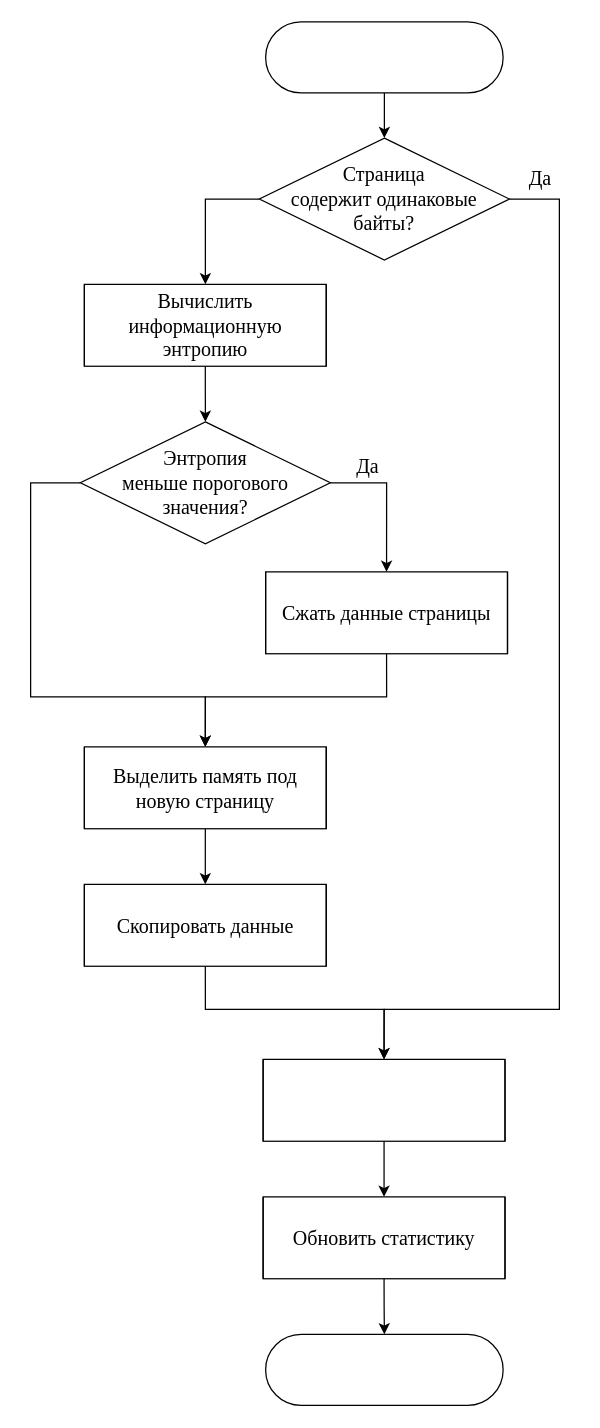
This 600x1428 diagram has some shape labels left out. The shapes that lost their labels are listed below. From the top down, each one's box as (x1, y1, x2, y2) in pixels, then its label:
(264, 21, 503, 93): Начало
(262, 1058, 505, 1141): Освободить ресурсы
(264, 1333, 503, 1405): Конец
